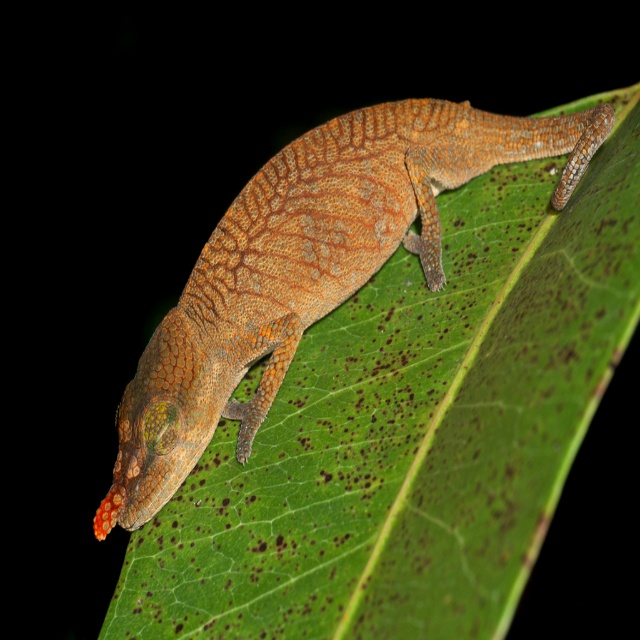Lizard: (98, 105, 612, 536)
